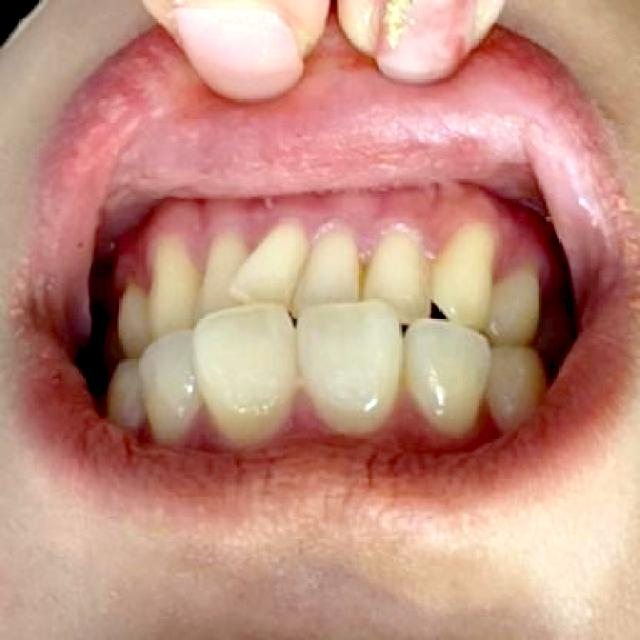Plaque: (239, 207, 462, 265), (275, 394, 327, 437), (385, 398, 427, 435)
